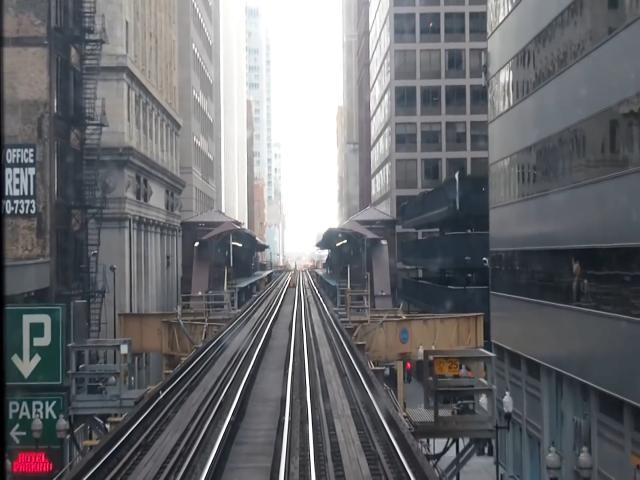signal light: (406, 362, 414, 385)
